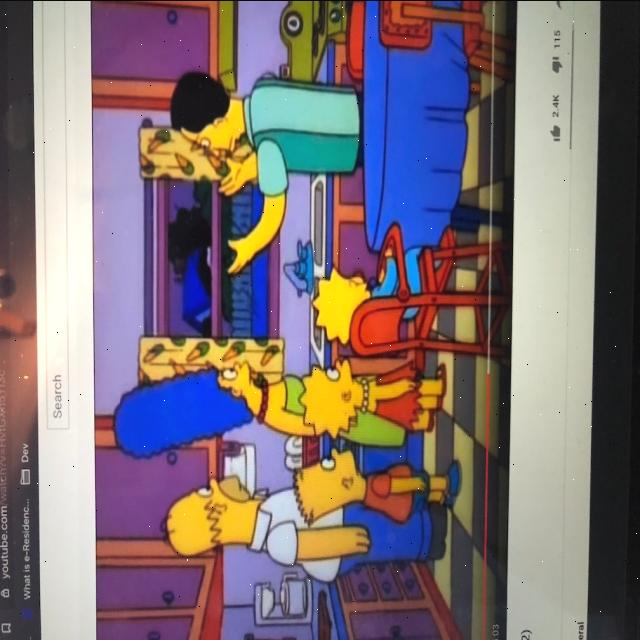Bart Simpson: (290, 443, 368, 529)
Homer Simpson: (157, 470, 265, 560)
Lisa Simpson: (295, 355, 372, 441)
Maggie Simpson: (309, 264, 374, 348)
Marge Simpson: (110, 357, 272, 462)
